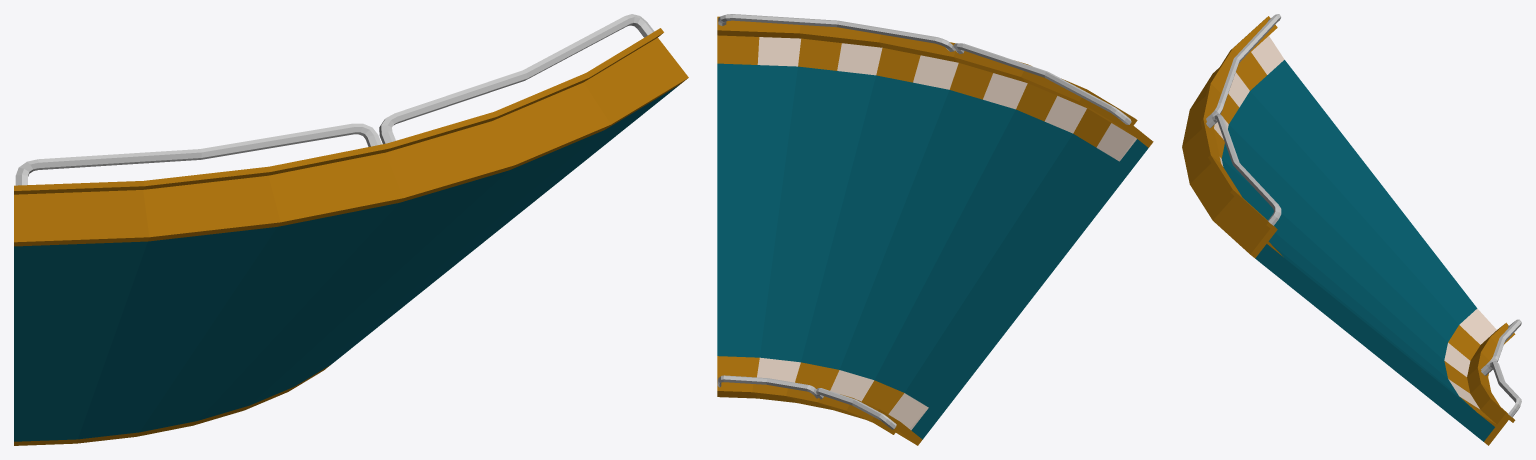
Rendered from bankedLeft-60-45_s.FBX.
The picture shows the model from 3 angles, left to right: view 1: azimuth 30°, elevation 25°; view 2: azimuth 150°, elevation 25°; view 3: azimuth 270°, elevation 25°; orthographic projection. The views are drawn at different scales.
Visible parts, largest first — view 1: bankedLeft-60-45_s, wall_r, wall_l; view 2: bankedLeft-60-45_s, curbs_r, wall_r, curbs_l, wall_l; view 3: bankedLeft-60-45_s, wall_r, wall_l, curbs_l, curbs_r.
Boxes of the visible parts, bbox=[...] form: bankedLeft-60-45_s: bbox=[14, 84, 679, 441]; wall_r: bbox=[14, 14, 688, 246]; wall_l: bbox=[14, 365, 330, 445]; bankedLeft-60-45_s: bbox=[717, 63, 1148, 439]; curbs_r: bbox=[717, 35, 1136, 161]; wall_r: bbox=[717, 14, 1153, 147]; curbs_l: bbox=[717, 356, 928, 430]; wall_l: bbox=[717, 375, 922, 445]; bankedLeft-60-45_s: bbox=[1221, 60, 1494, 441]; wall_r: bbox=[1182, 14, 1281, 258]; wall_l: bbox=[1467, 319, 1521, 445]; curbs_l: bbox=[1444, 308, 1496, 426]; curbs_r: bbox=[1214, 36, 1284, 256].
Size of what is drawn, in the model's own units: 262 by 163 by 175.
